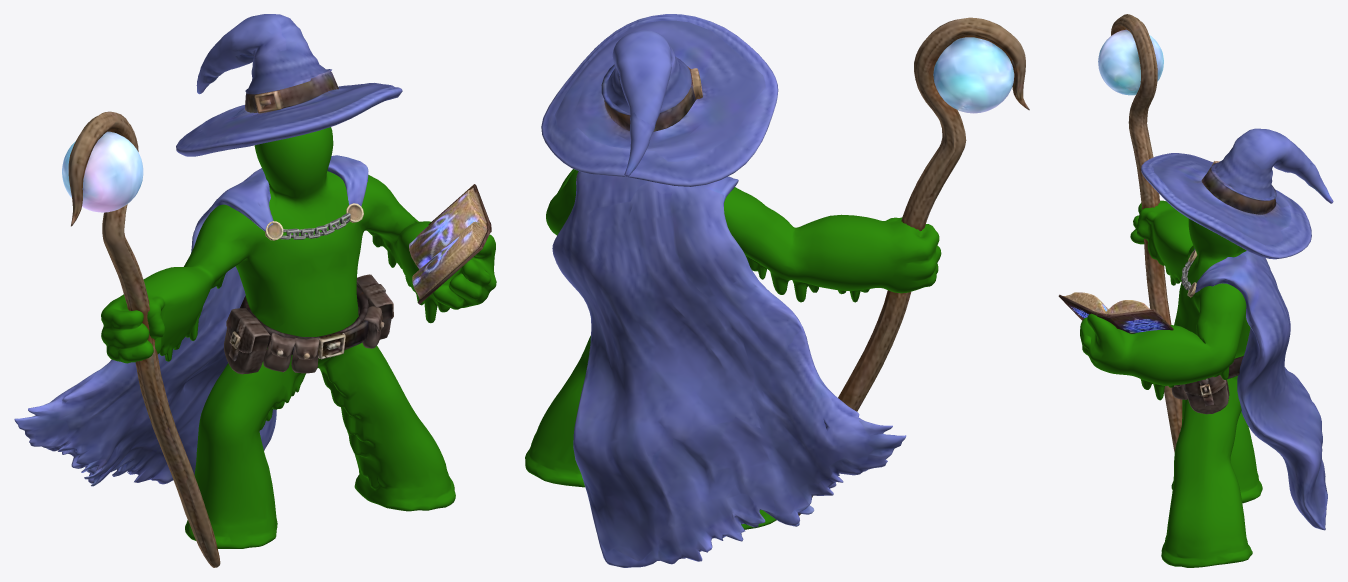
The model's file is MZ4250 - Plasmoid Wizard_1.glb.
3 views of the same model, side by side, from view 1: azimuth 30°, elevation 25°; view 2: azimuth 150°, elevation 25°; view 3: azimuth 270°, elevation 25° (orthographic). The views are drawn at different scales.
Visible parts, largest first — view 1: ORGANIC BASE SPHERE.002; view 2: ORGANIC BASE SPHERE.002; view 3: ORGANIC BASE SPHERE.002.
Boxes of the visible parts, box(x1,y1,x2,y2) form: ORGANIC BASE SPHERE.002: box(14, 14, 496, 567); ORGANIC BASE SPHERE.002: box(525, 14, 1029, 567); ORGANIC BASE SPHERE.002: box(1058, 14, 1333, 567).
Bounding box in the file's own units: 78.32 × 89.06 × 53.19.
Materials: 5 (5 with a texture image).
